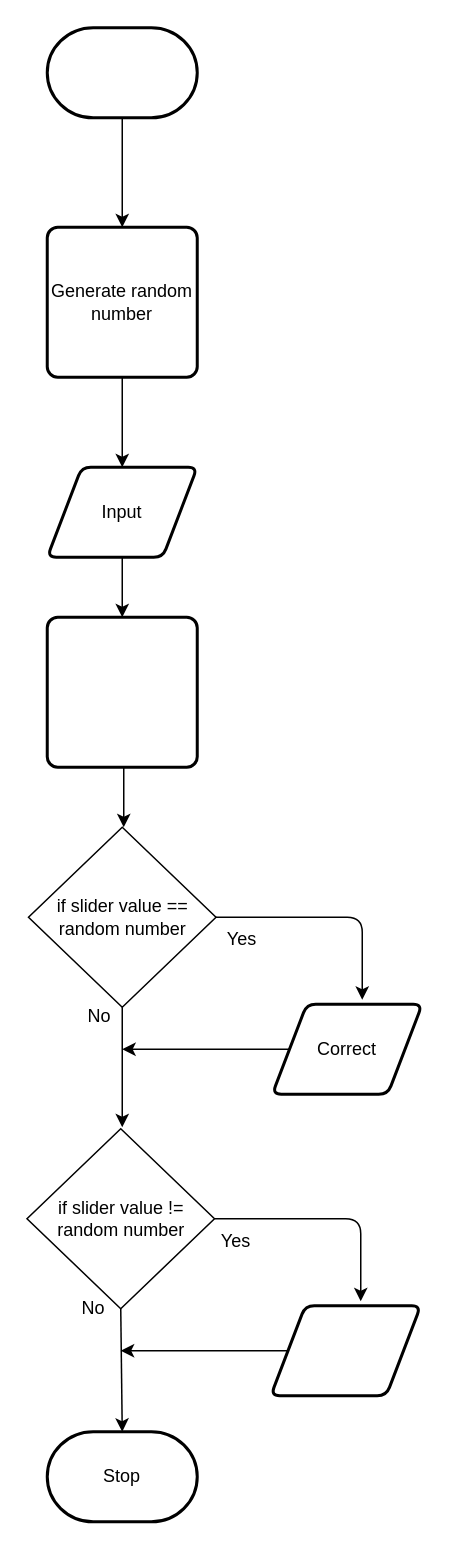
This 449x1548 diagram has some shape labels left out. The centre of each missing label's shape, as x and y in pixels:
"Get slider value" goes at [121,691].
"Start" goes at [121,72].
"Wrong" goes at [345,1350].
